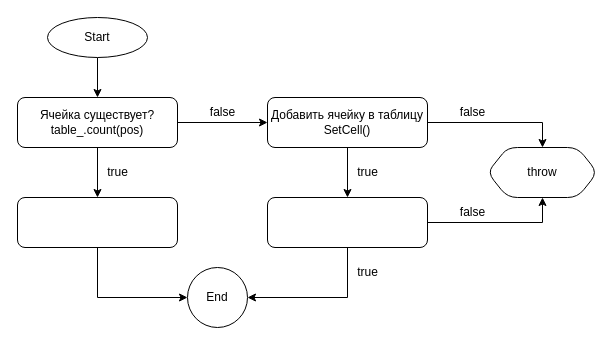
Some shapes in this 615 by 345 pixel diagram are drawn without their labels. Here are the shapes that lost their labels. From the top down, the centre of each, then its label:
the point at 97,222: Инвалидируем КЭШ, сбрасываем зависимости
the point at 347,222: Проверить на валидность формулы и цикличность
